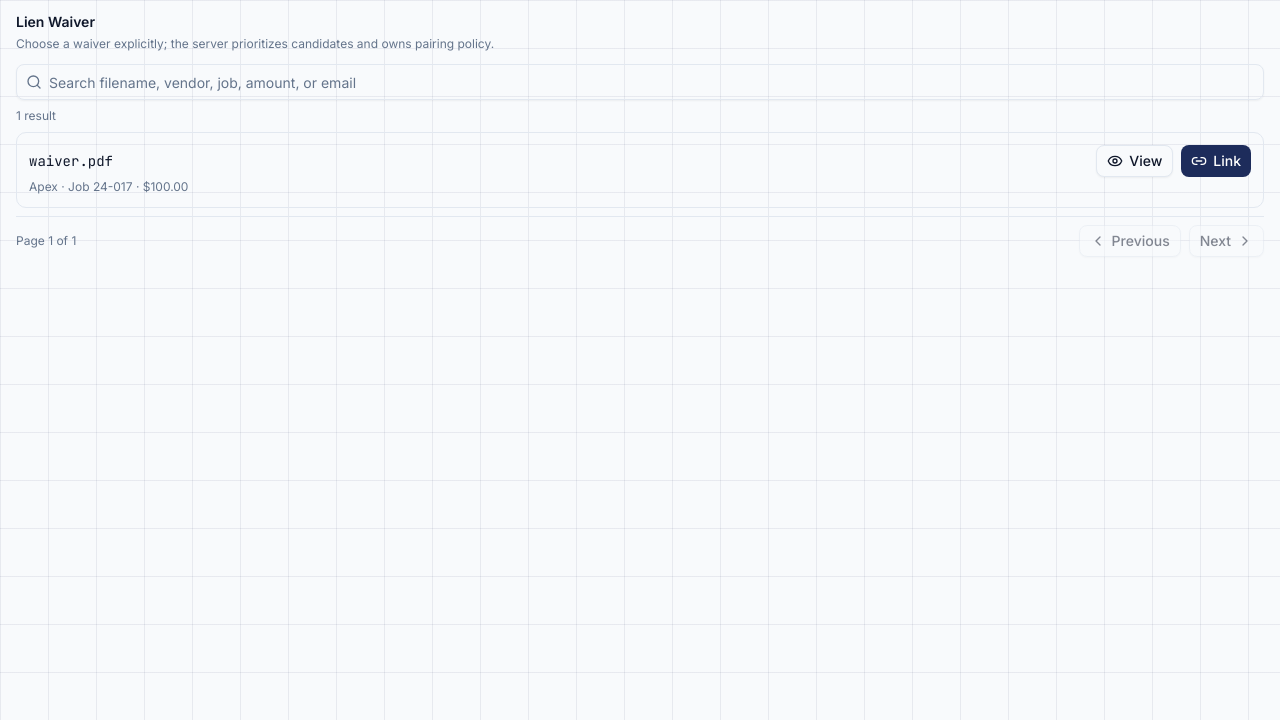
Scenario: WaiverPairingSection › keeps unrelated link errors in the existing inline fallback
What coordinates should you click on to do the following:
click the button "Link"
I would click on:
 (1216, 161)
Its box is [1181,145,1251,177].
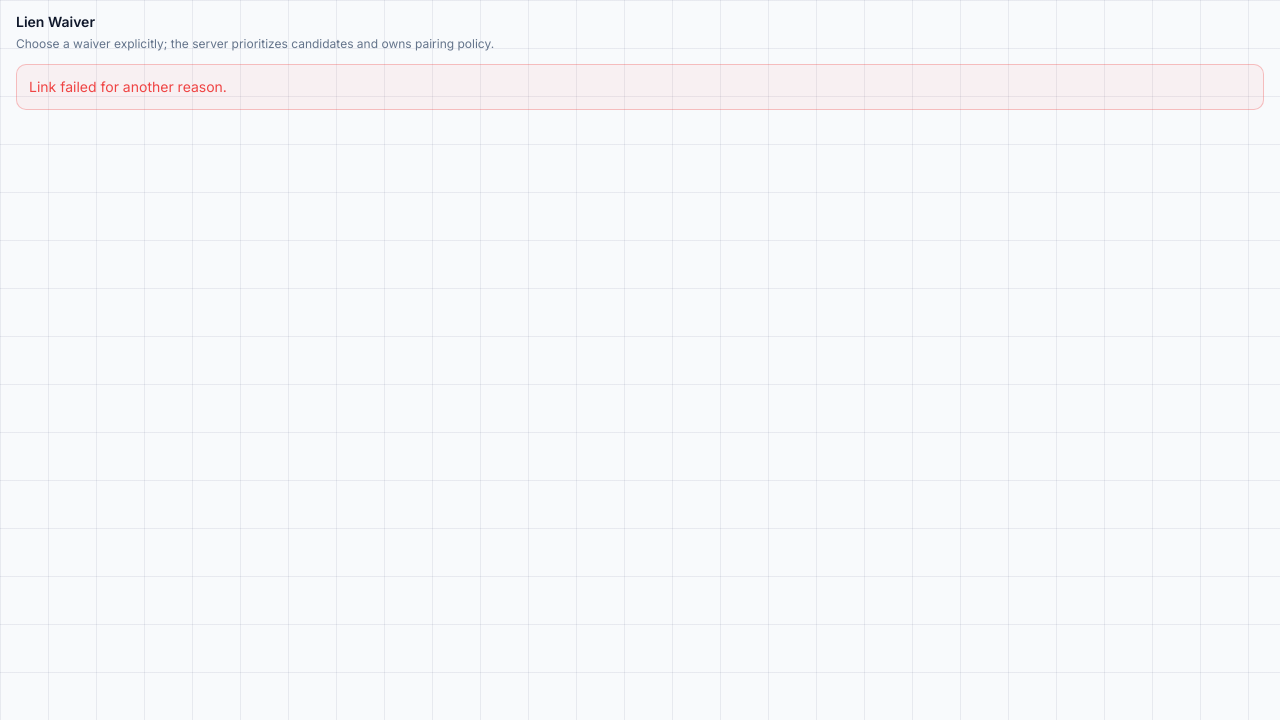
Check: the text "Link failed for another reason." is shown, box [16,64,1264,110]
